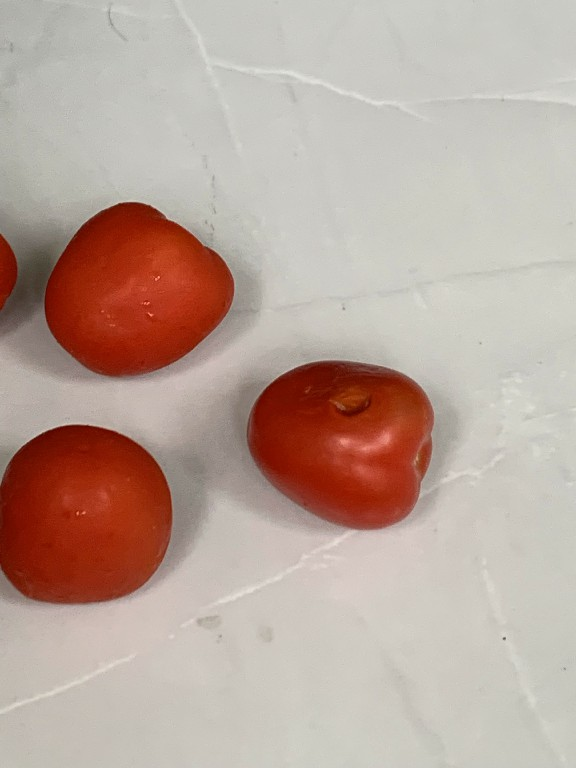NG: (235, 356, 456, 530)
OK: (37, 198, 242, 381), (0, 413, 177, 609)
